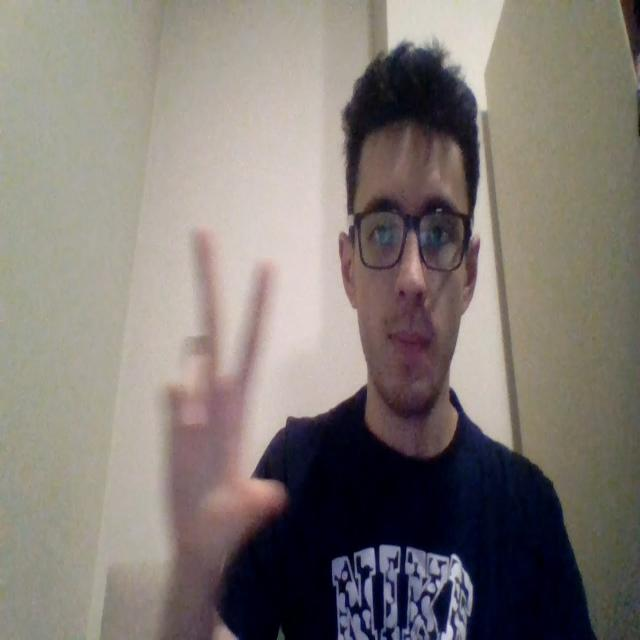no: (156, 226, 290, 637)
